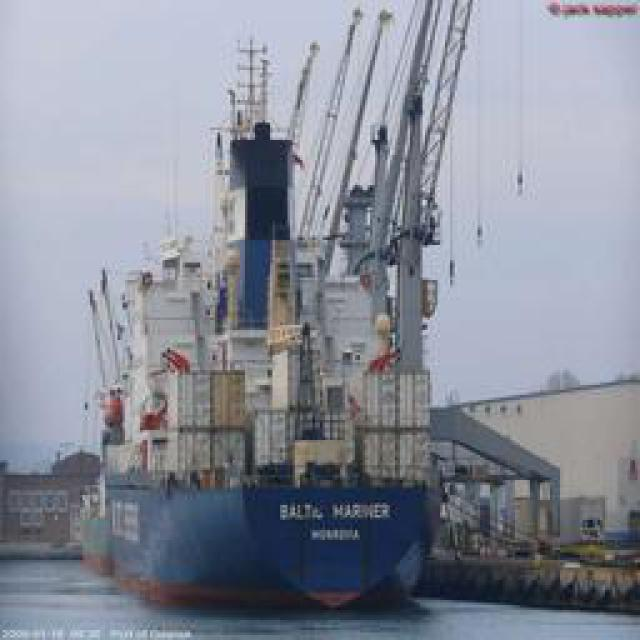Ship: (79, 10, 469, 615)
